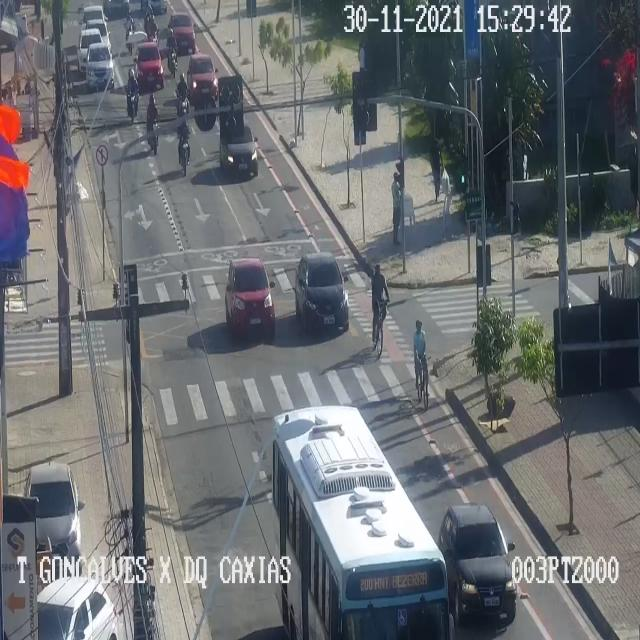Bus: (272, 404, 454, 639)
Car: (439, 506, 517, 624), (25, 463, 85, 570), (39, 577, 117, 639), (293, 248, 349, 333), (226, 256, 276, 339), (218, 120, 260, 183), (187, 53, 219, 104), (133, 40, 165, 88), (86, 42, 115, 90), (168, 12, 196, 57), (76, 28, 104, 70), (83, 21, 111, 55), (80, 0, 106, 31)
Motorcycle: (177, 114, 191, 177), (146, 94, 160, 153), (126, 68, 140, 124), (166, 28, 178, 73), (176, 74, 188, 114), (147, 12, 159, 48), (124, 12, 134, 54)
